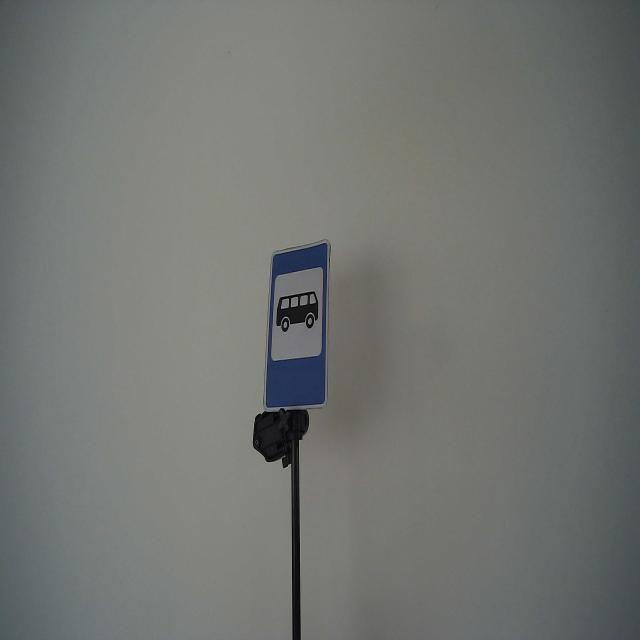bus_stop: (260, 238, 332, 414)
